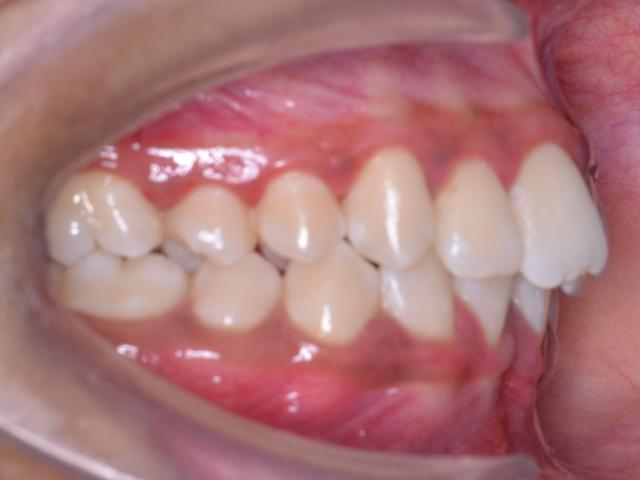canine class II 1/4: (286, 132, 464, 358)
molar class I: (44, 174, 188, 332)
